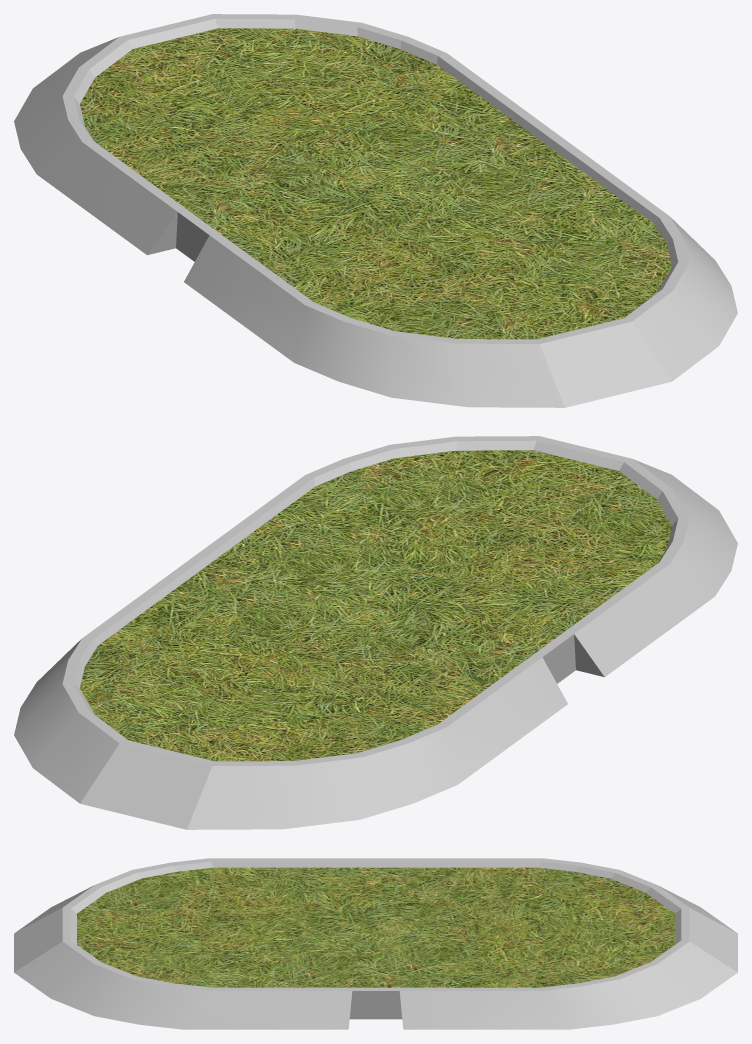
Rendered from GrassBlock01.FBX.
The picture shows the model from 3 angles, top to bottom: view 1: azimuth 30°, elevation 25°; view 2: azimuth 150°, elevation 25°; view 3: azimuth 270°, elevation 25°; orthographic projection. The views are drawn at different scales.
Visible parts, largest first — view 1: Object008, Box031; view 2: Object008, Box031; view 3: Object008, Box031.
Boxes of the visible parts, left/top/right/bottom form: Object008: left=80, top=28, right=671, bottom=339; Box031: left=14, top=14, right=737, bottom=407; Object008: left=80, top=450, right=671, bottom=761; Box031: left=14, top=436, right=737, bottom=829; Object008: left=77, top=867, right=674, bottom=987; Box031: left=14, top=858, right=737, bottom=1029.
Bounding box in the file's own units: 661 × 57.25 × 1319.
